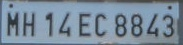character: (6, 11, 19, 38), (22, 10, 35, 37), (58, 10, 71, 37), (78, 11, 91, 37), (113, 13, 127, 37), (94, 13, 107, 37), (130, 13, 143, 37), (147, 12, 159, 37), (162, 14, 174, 38), (44, 11, 53, 37)
